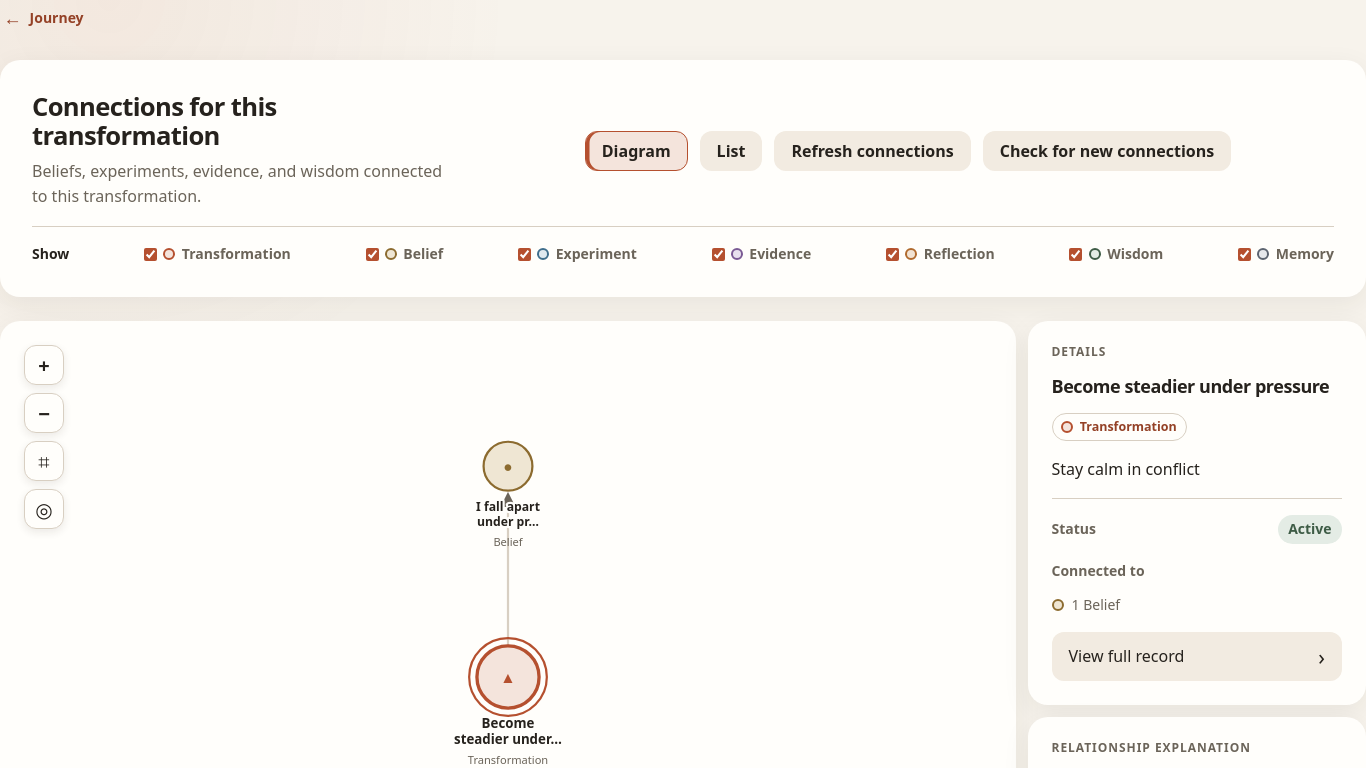
Test: KnowledgeGraphPage › renders a bounded view with a diagram, list toggle, and node detail on selection
The image size is (1366, 768).
Expected: the heading "Connections for this transformation" is shown, [32, 89, 277, 153]
Click the button "List" at point(731, 151), box [700, 131, 762, 171]
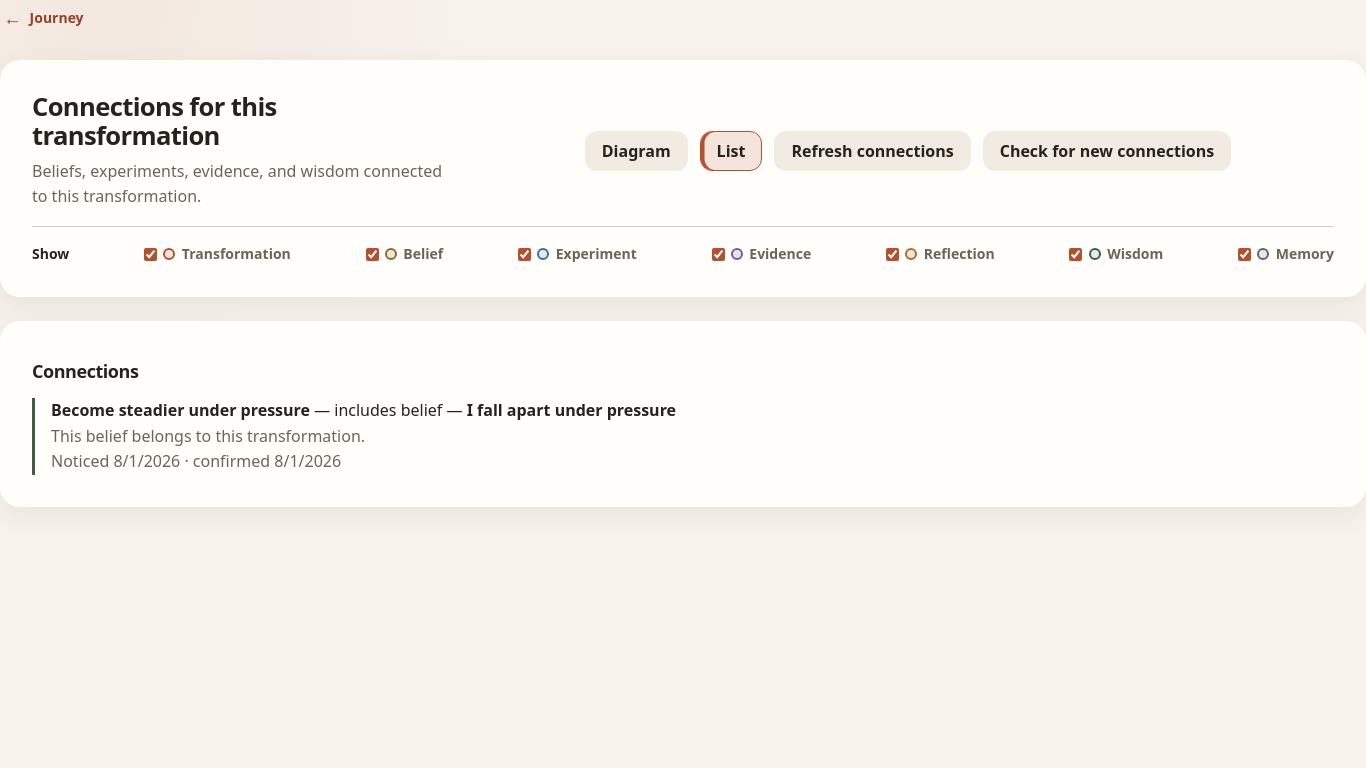
Now the text "includes belief" is shown, box [334, 399, 442, 421]
Now the text "Noticed 8/1/2026 · confirmed 8/1/2026" is shown, box [51, 450, 341, 472]
Click the checkbox labelled "Belief" at point(372, 254), box [366, 248, 378, 261]
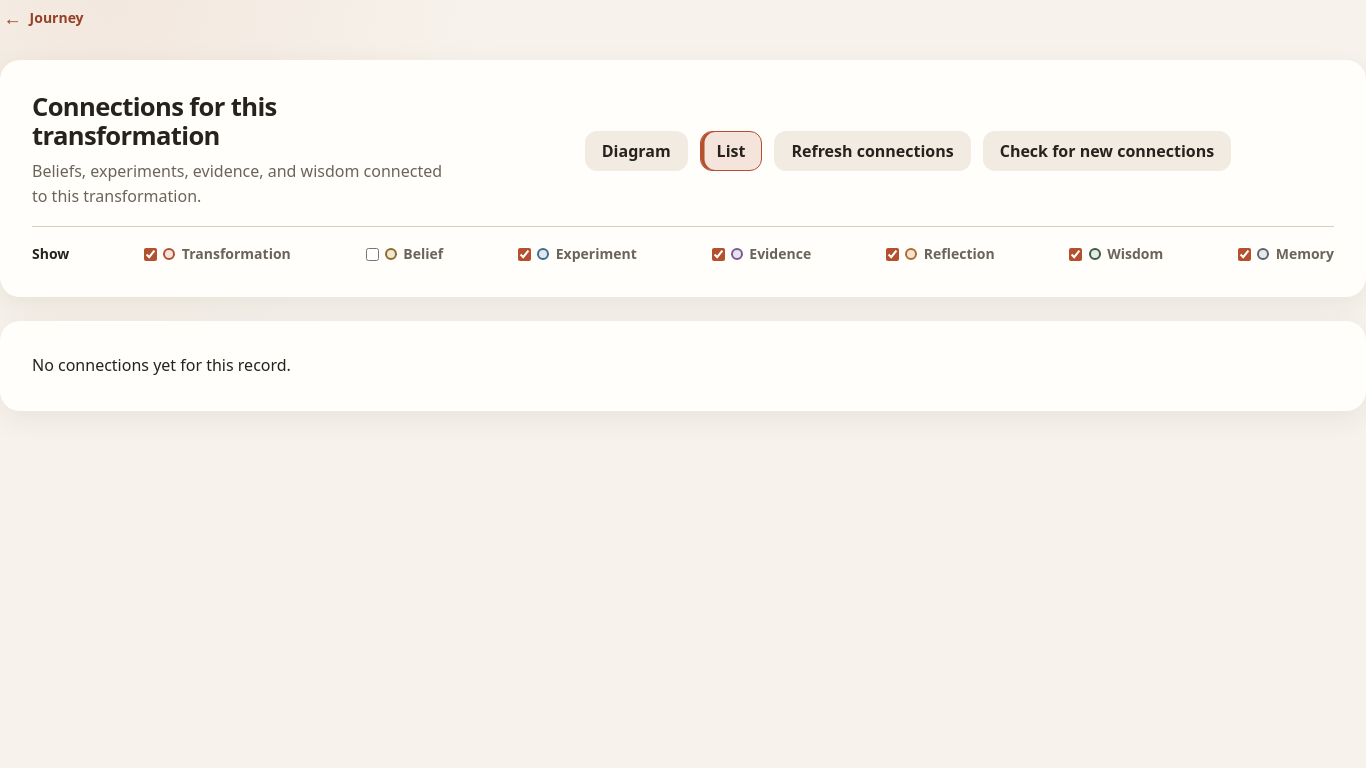
Now the text "includes belief" is gone
